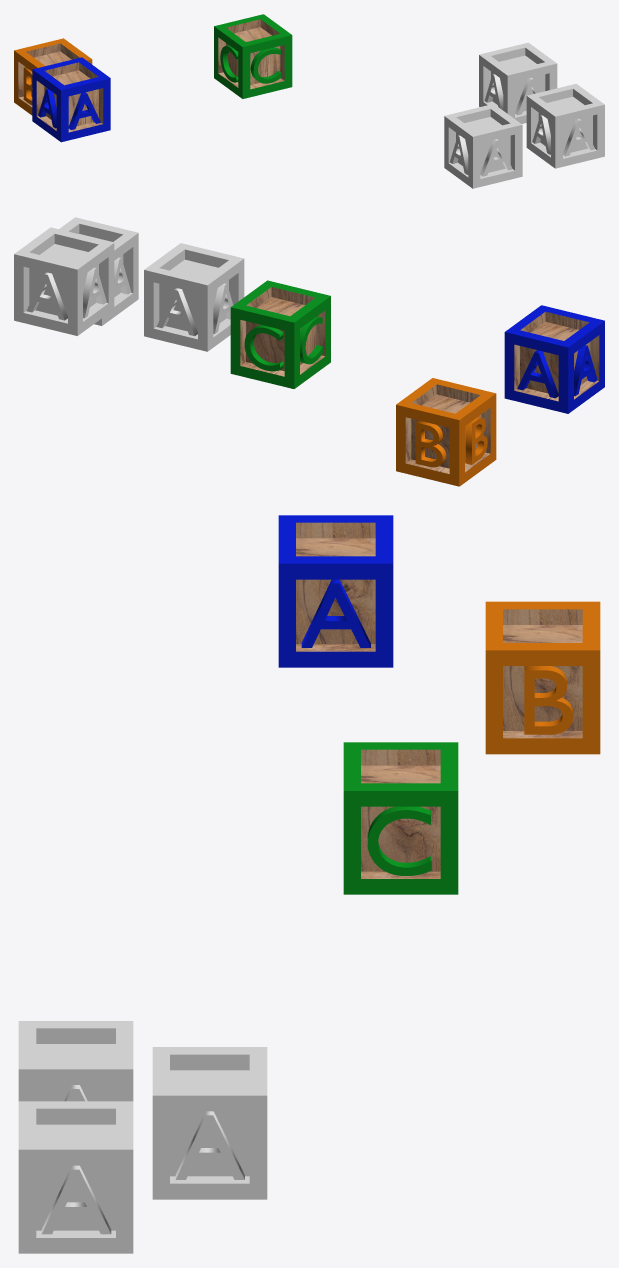
Rendered from BabyBlockC.fbx.
3 views of the same model, one above another, from view 1: azimuth 30°, elevation 25°; view 2: azimuth 150°, elevation 25°; view 3: azimuth 270°, elevation 25° (orthographic). The views are drawn at different scales.
Visible parts, largest first — view 1: Cube.003, Cube.002, Cube.004, Cube.006, Cube.005, Cube.001, Text.012, Text.020, Text.015, Text.023, Text.019, Text.016; view 2: Cube.002, Cube.003, Cube.001, Cube.005, Cube.004, Cube.006, Text.013, Text.017, Text.019, Text.015, Text.023; view 3: Cube.001, Cube.003, Cube.002, Cube.006, Cube.005, Cube.004, Text.022, Text.018.
Boxes of the visible parts, x1=… form: Cube.003: x1=32, y1=57, x2=110, y2=142; Cube.002: x1=214, y1=14, x2=292, y2=98; Cube.004: x1=444, y1=104, x2=522, y2=188; Cube.006: x1=526, y1=83, x2=604, y2=168; Cube.005: x1=479, y1=42, x2=557, y2=123; Cube.001: x1=14, y1=38, x2=92, y2=115; Text.012: x1=480, y1=139, x2=512, y2=176; Text.020: x1=563, y1=119, x2=594, y2=156; Text.015: x1=450, y1=135, x2=468, y2=174; Text.023: x1=532, y1=115, x2=550, y2=154; Text.019: x1=484, y1=74, x2=503, y2=110; Text.016: x1=515, y1=77, x2=539, y2=115; Cube.002: x1=230, y1=280, x2=330, y2=388; Cube.003: x1=504, y1=305, x2=604, y2=413; Cube.001: x1=396, y1=378, x2=496, y2=486; Cube.005: x1=14, y1=227, x2=114, y2=335; Cube.004: x1=144, y1=243, x2=244, y2=351; Cube.006: x1=59, y1=217, x2=138, y2=325; Text.013: x1=156, y1=288, x2=197, y2=336; Text.017: x1=26, y1=272, x2=67, y2=320; Text.019: x1=83, y1=267, x2=106, y2=318; Text.015: x1=213, y1=283, x2=233, y2=333; Text.023: x1=114, y1=257, x2=131, y2=296; Cube.001: x1=485, y1=601, x2=600, y2=754; Cube.003: x1=278, y1=515, x2=393, y2=667; Cube.002: x1=343, y1=742, x2=458, y2=894; Cube.006: x1=18, y1=1101, x2=133, y2=1253; Cube.005: x1=152, y1=1047, x2=267, y2=1199; Cube.004: x1=18, y1=1021, x2=133, y2=1101; Text.022: x1=41, y1=1165, x2=111, y2=1234; Text.018: x1=175, y1=1111, x2=244, y2=1179.
Bounding box in the file's own units: 1929 × 522 × 1014.
